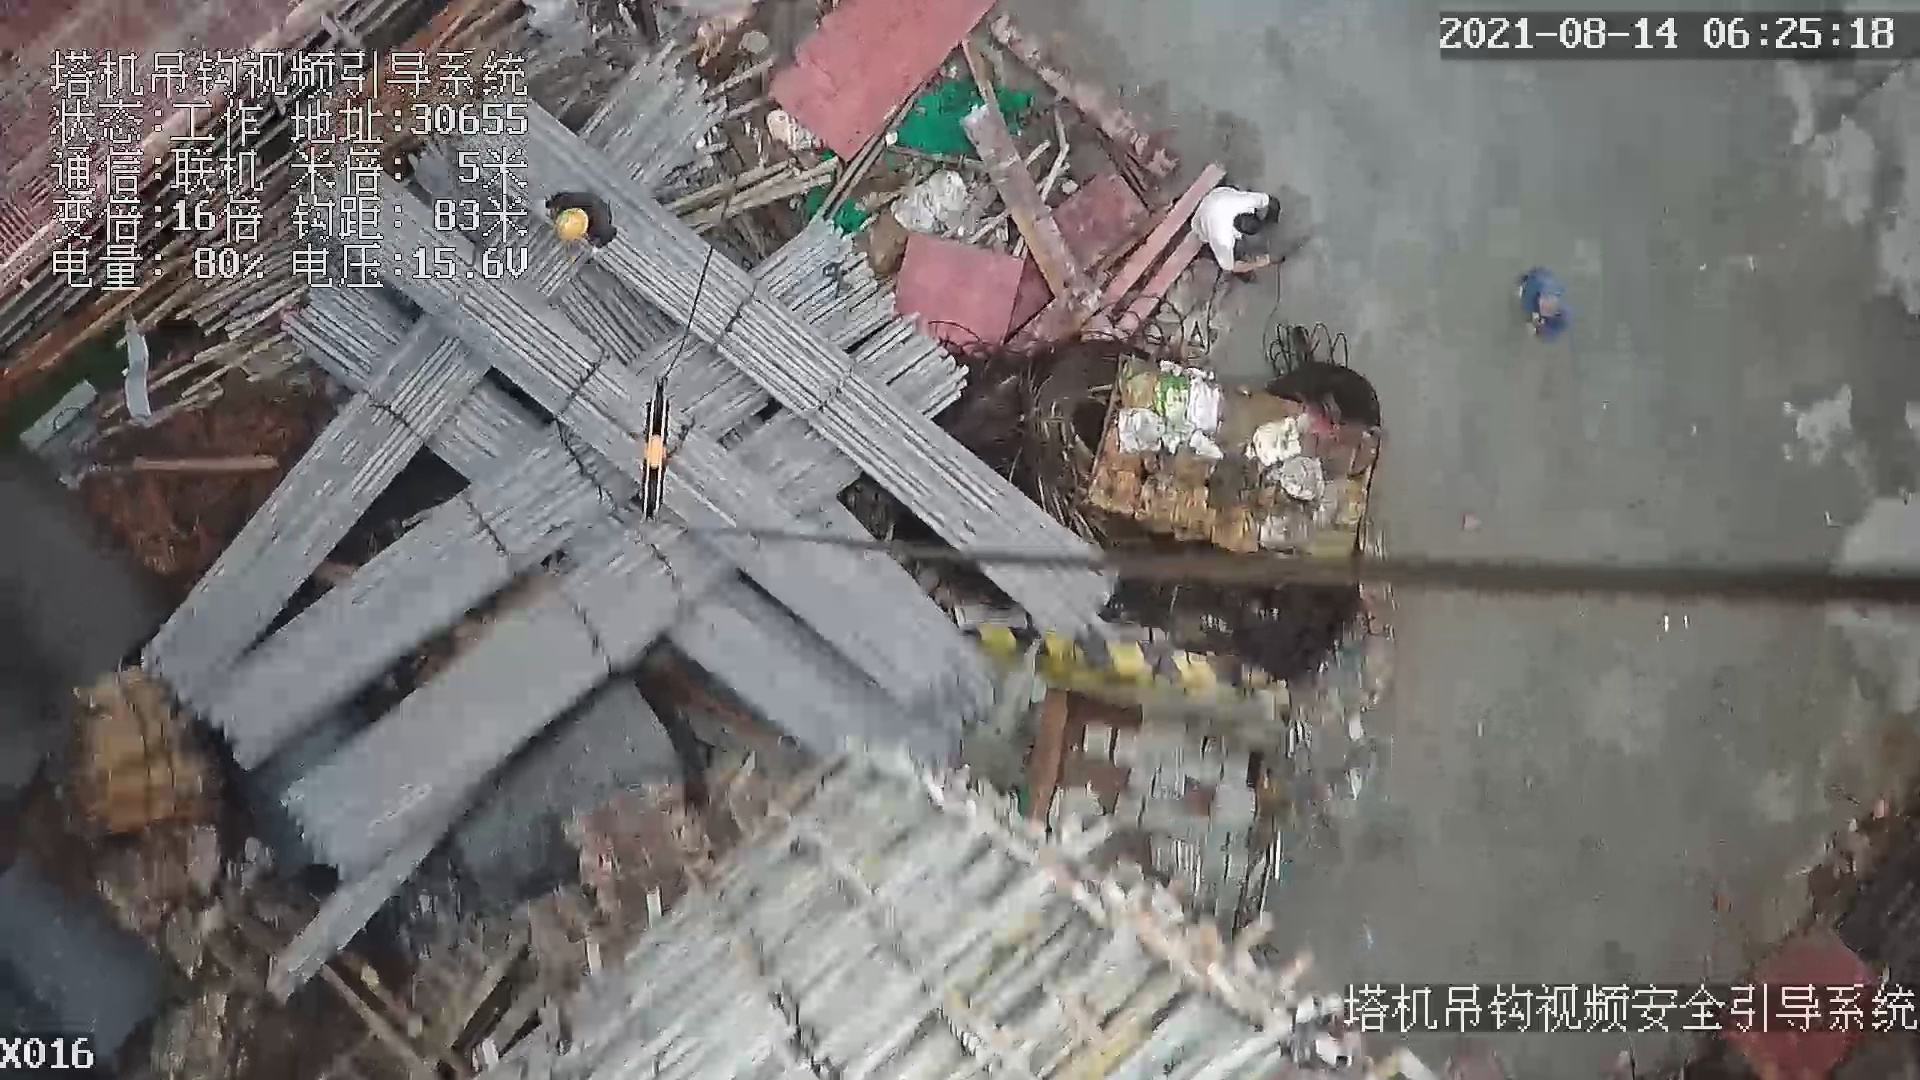helmet: (555, 207, 588, 248)
hook: (633, 377, 683, 526)
person: (1190, 186, 1290, 276), (1508, 263, 1570, 341), (544, 190, 620, 251)
